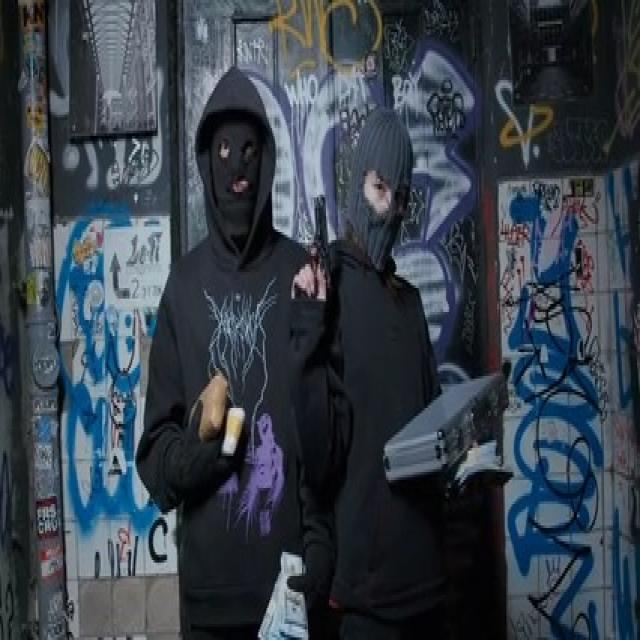Gun_Holder: (287, 198, 344, 317)
Person: (138, 70, 317, 640), (313, 94, 462, 640)
